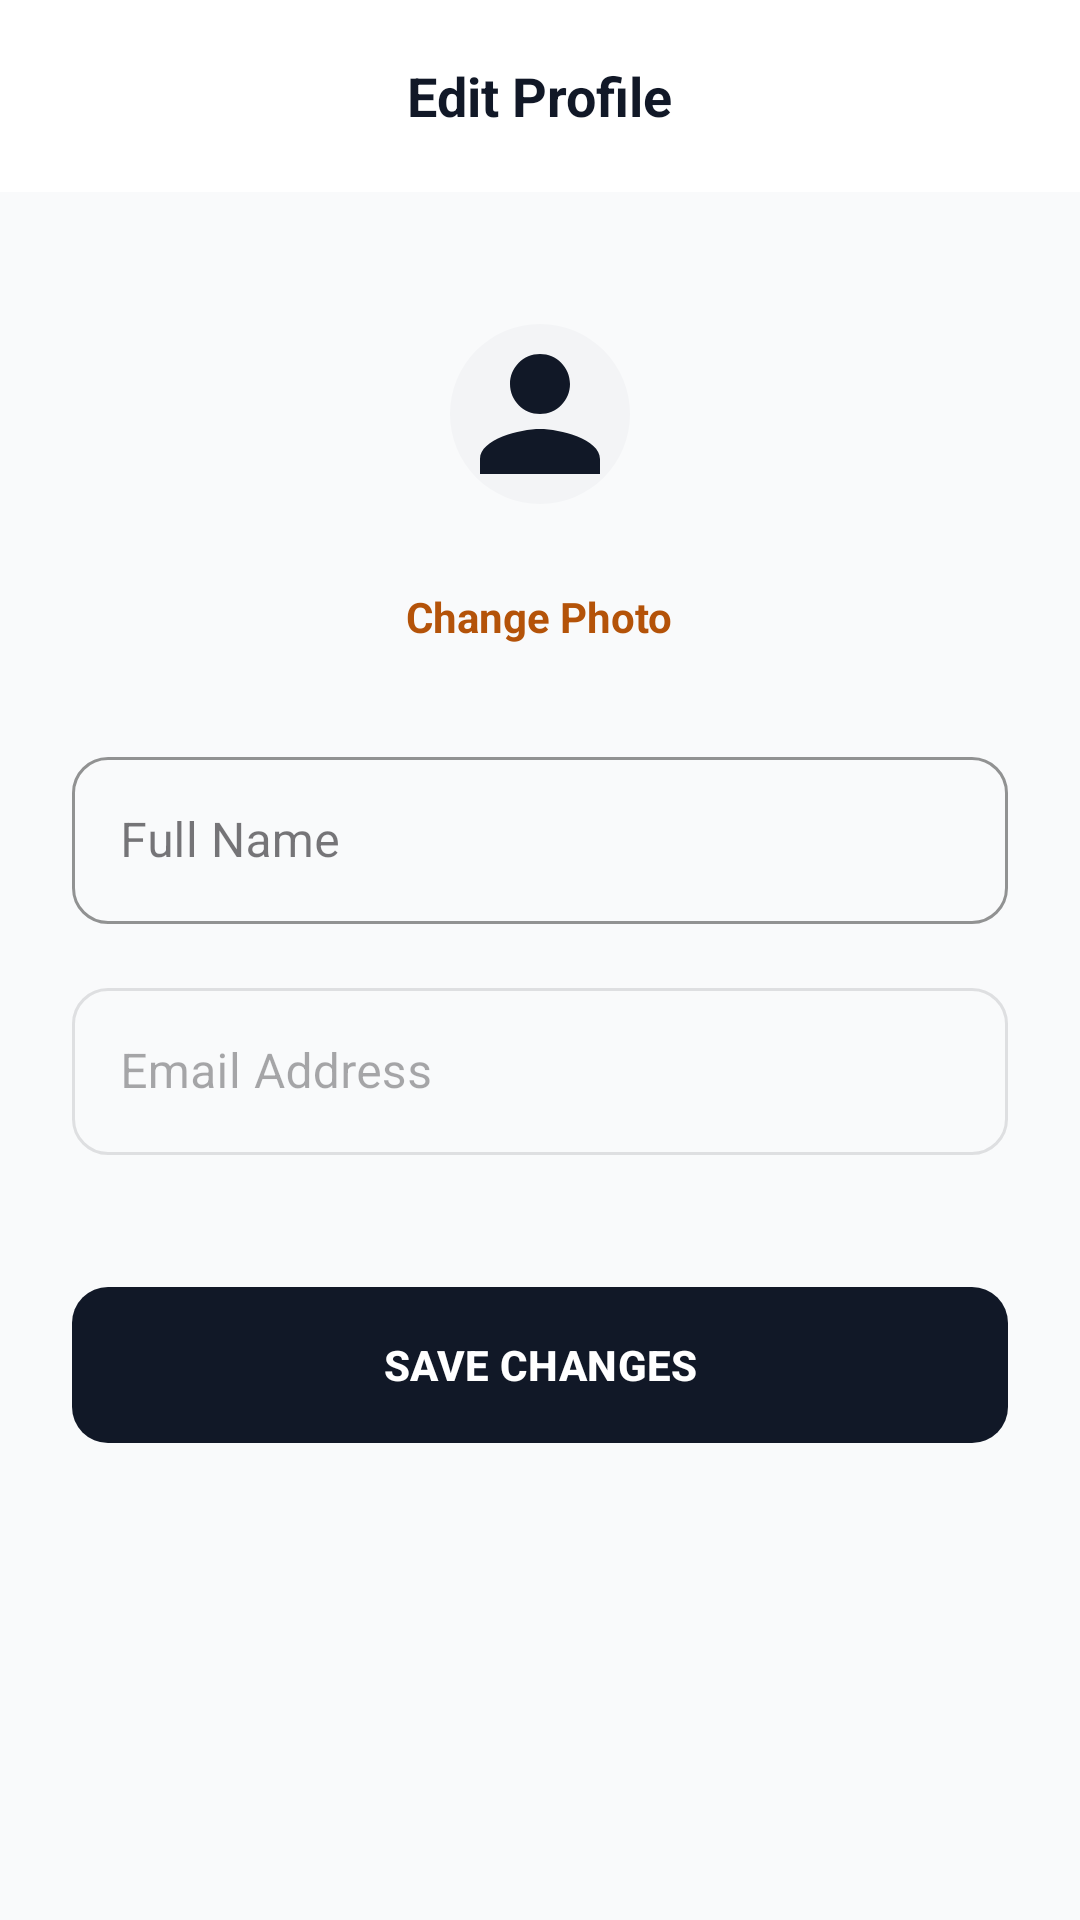

Icons on this 1080 × 1920 Android screen, each with the point to tap as point (x, y):
person: point (540, 414)
